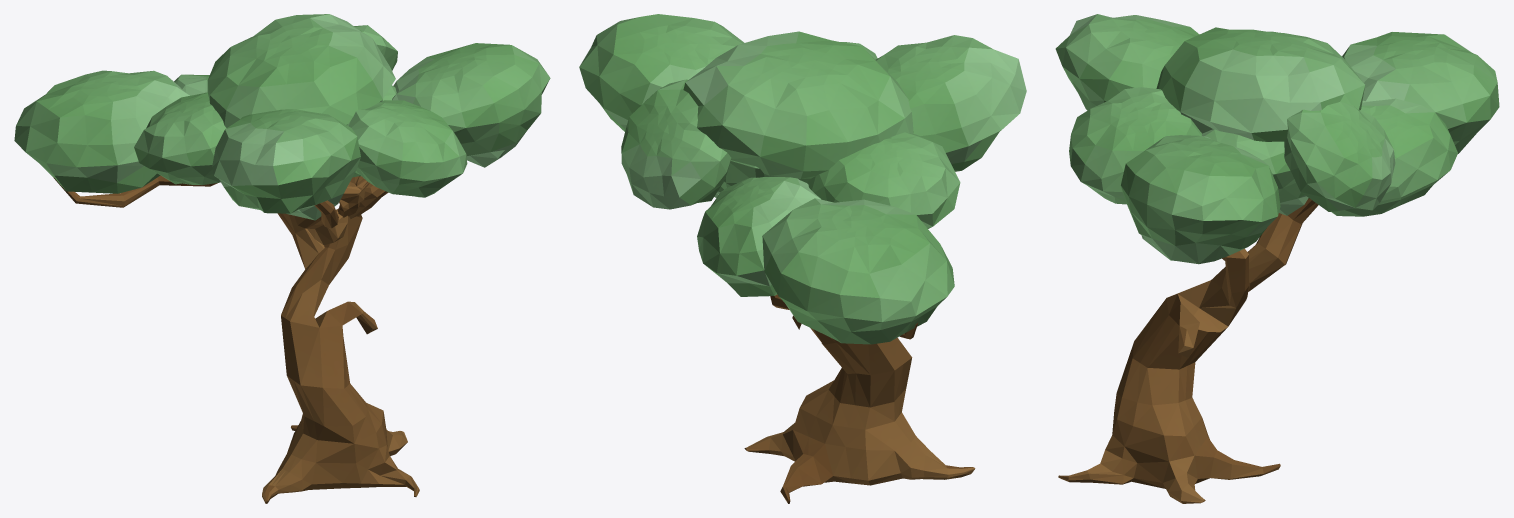
File: tree_1_c.obj
3 renders of one model, left to right at view 1: azimuth 30°, elevation 25°; view 2: azimuth 150°, elevation 25°; view 3: azimuth 270°, elevation 25°, orthographic. The views are drawn at different scales.
Parts seen in each view (by area): view 1: crown_1_c_Material, trunk_1_c_Material; view 2: crown_1_c_Material, trunk_1_c_Material; view 3: crown_1_c_Material, trunk_1_c_Material.
Part boxes in pixels (x1,y1,x2,y2): crown_1_c_Material: [14, 14, 550, 220]; trunk_1_c_Material: [53, 175, 419, 503]; crown_1_c_Material: [579, 14, 1026, 344]; trunk_1_c_Material: [744, 294, 975, 503]; crown_1_c_Material: [1055, 14, 1499, 264]; trunk_1_c_Material: [1058, 198, 1318, 503].
Bounding box in the file's own units: 4.75 × 4.32 × 4.05.
